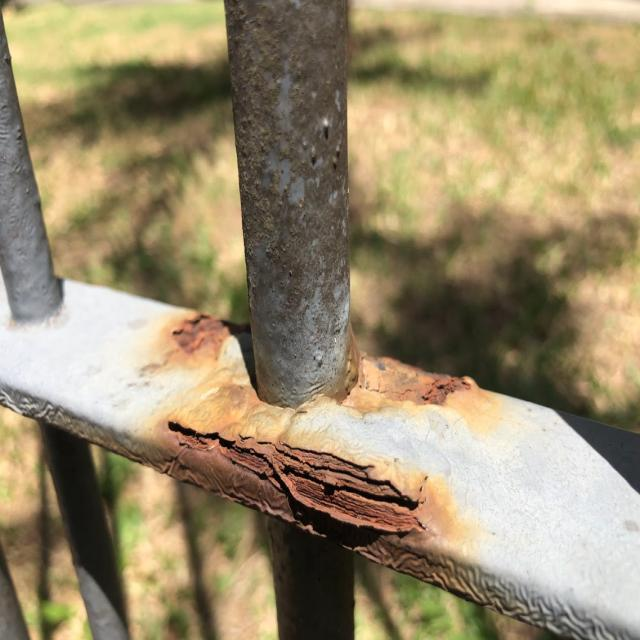Corrosion: (165, 417, 426, 550)
